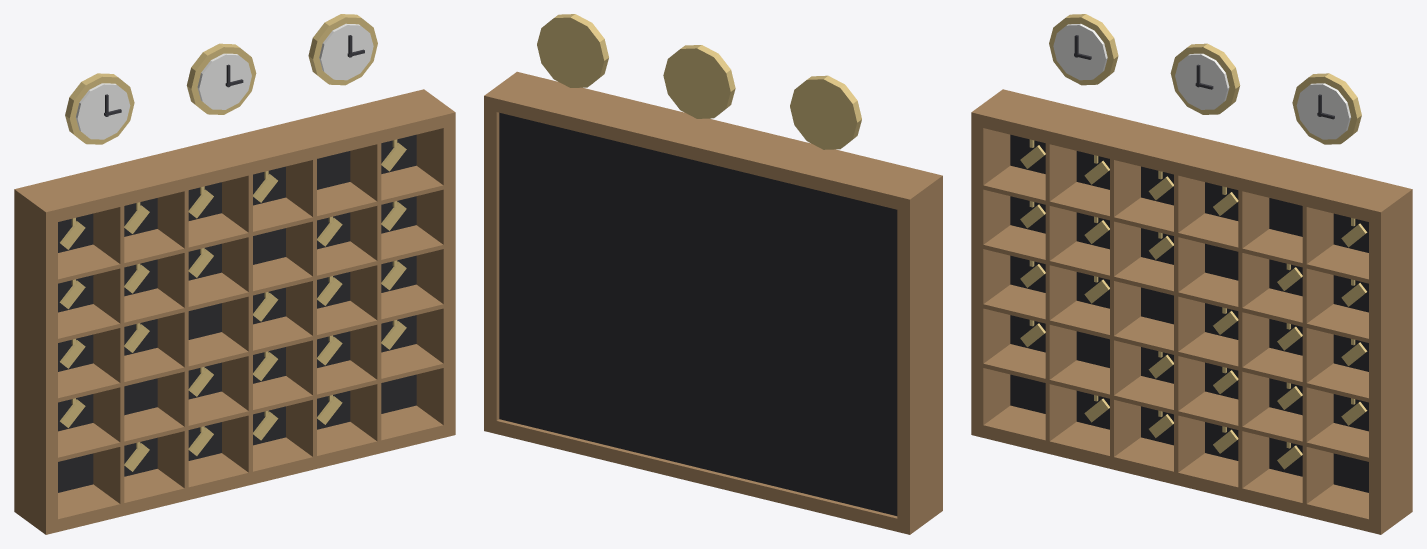
Rendered from HJ_Casillero.fbx.
3 views of the same model, side by side, from view 1: azimuth 30°, elevation 25°; view 2: azimuth 150°, elevation 25°; view 3: azimuth 330°, elevation 25° (orthographic). The views are drawn at different scales.
Parts seen in each view (by area): view 1: HJ_Casillero; view 2: HJ_Casillero; view 3: HJ_Casillero.
Part boxes in pixels (box(x1,y1,x2,y2)): HJ_Casillero: box(14, 14, 455, 534); HJ_Casillero: box(484, 14, 942, 534); HJ_Casillero: box(971, 14, 1412, 534).
Size of the model in its own units: 2.02 by 1.97 by 0.27.
